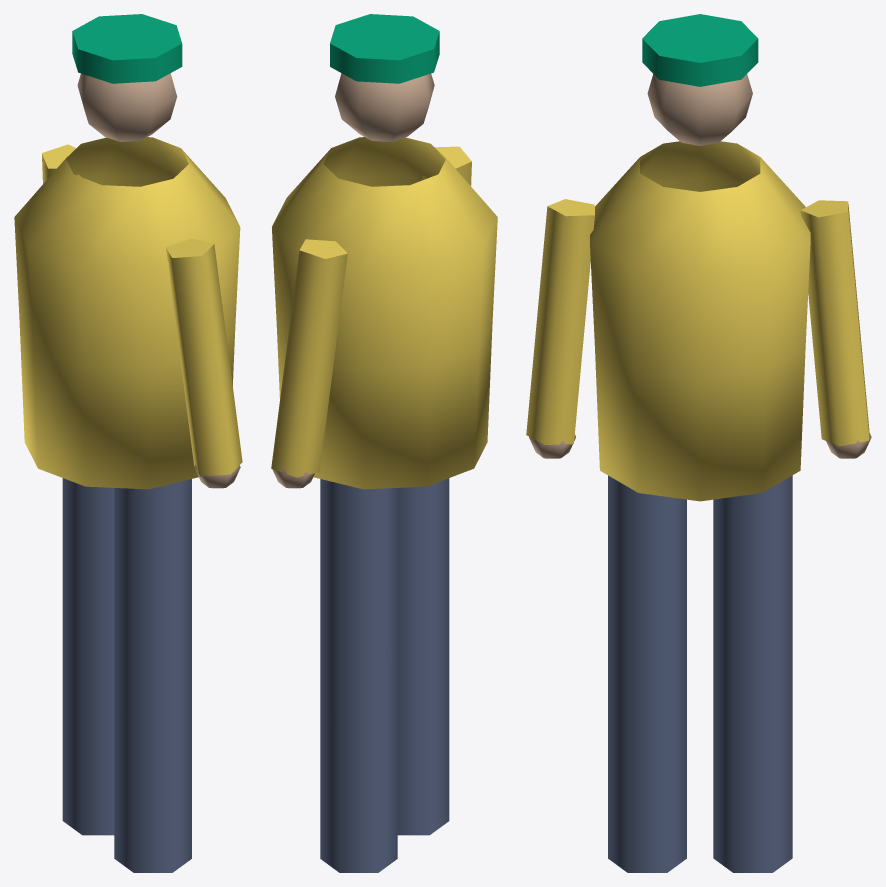
The model's file is SM_Person_Kid.fbx.
3 views of the same model, side by side, from view 1: azimuth 30°, elevation 25°; view 2: azimuth 150°, elevation 25°; view 3: azimuth 270°, elevation 25° (orthographic). The views are drawn at different scales.
Parts seen in each view (by area): view 1: SM_Person_Kid; view 2: SM_Person_Kid; view 3: SM_Person_Kid.
Boxes of the visible parts, x1=… form: SM_Person_Kid: x1=14, y1=14, x2=242, y2=872; SM_Person_Kid: x1=271, y1=14, x2=497, y2=872; SM_Person_Kid: x1=526, y1=14, x2=871, y2=872.
Bounding box in the file's own units: 29.92 × 117 × 44.53.
